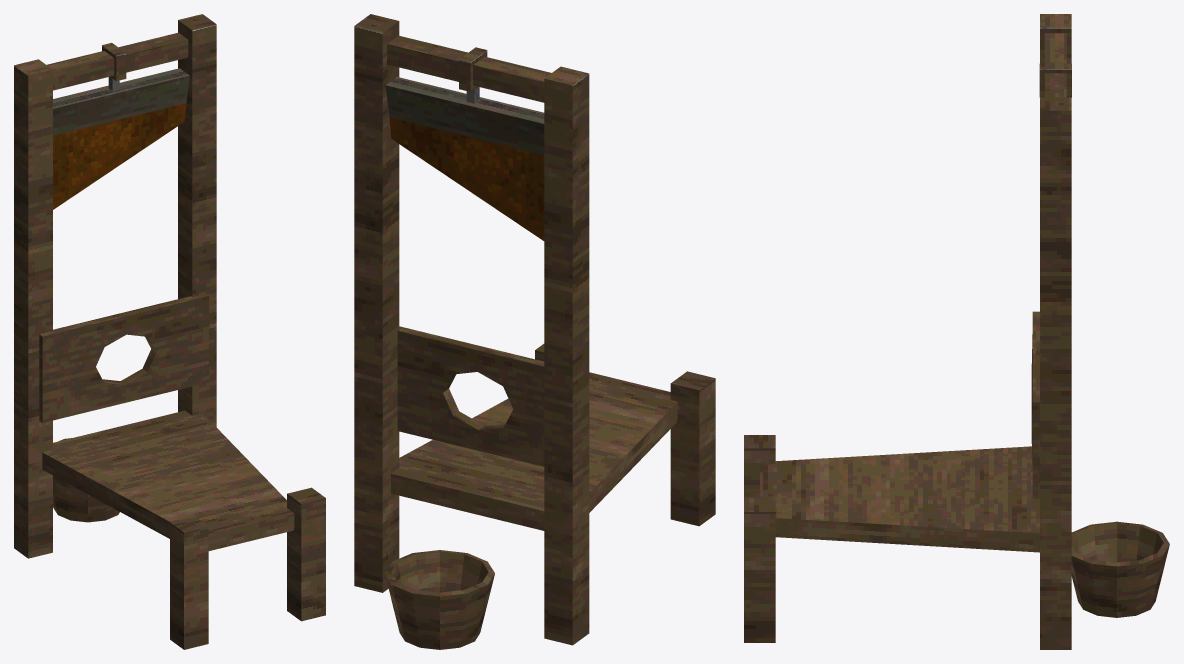
The model's file is props_guillotine_01.gltf.
3 renders of one model, left to right at view 1: azimuth 30°, elevation 25°; view 2: azimuth 150°, elevation 25°; view 3: azimuth 270°, elevation 25°, orthographic. The views are drawn at different scales.
Visible parts, largest first — view 1: props_guillotine_01; view 2: props_guillotine_01; view 3: props_guillotine_01.
Boxes of the visible parts, left/top/right/bottom form: props_guillotine_01: left=14, top=14, right=325, bottom=649; props_guillotine_01: left=354, top=14, right=715, bottom=649; props_guillotine_01: left=744, top=14, right=1169, bottom=649.
Size of the model in its own units: 1.15 by 2.85 by 2.02.
Materials: 1 (1 with a texture image).
